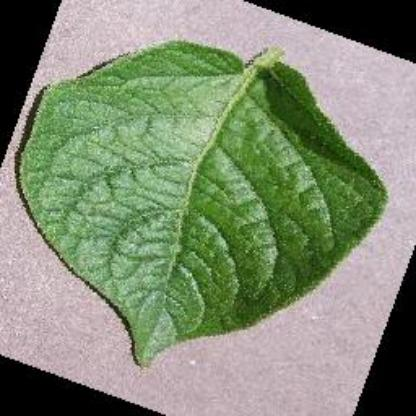Healthy-plant: (7, 16, 405, 390)
